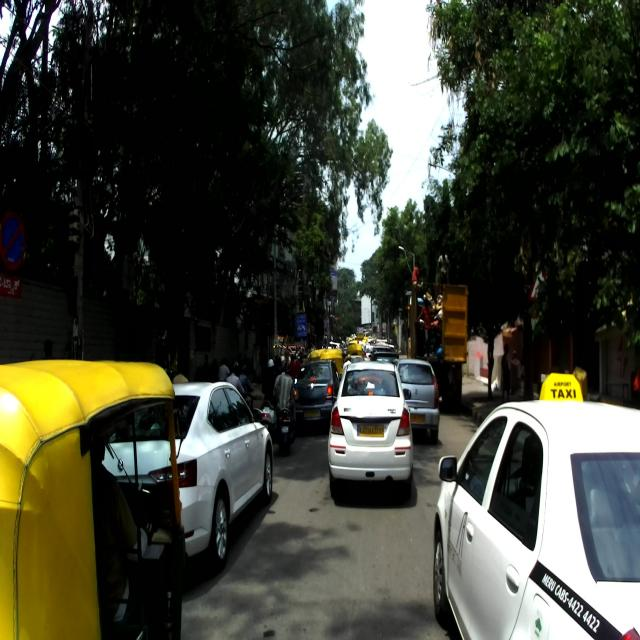autorickshaw: (0, 357, 191, 639)
car: (432, 373, 640, 639), (164, 378, 274, 577), (327, 359, 413, 500), (393, 356, 440, 443), (292, 357, 340, 440)
